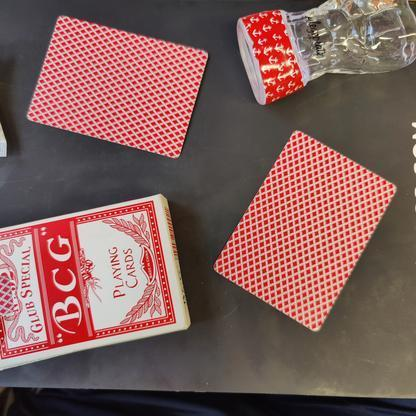card: (207, 120, 403, 340), (20, 8, 217, 163)
